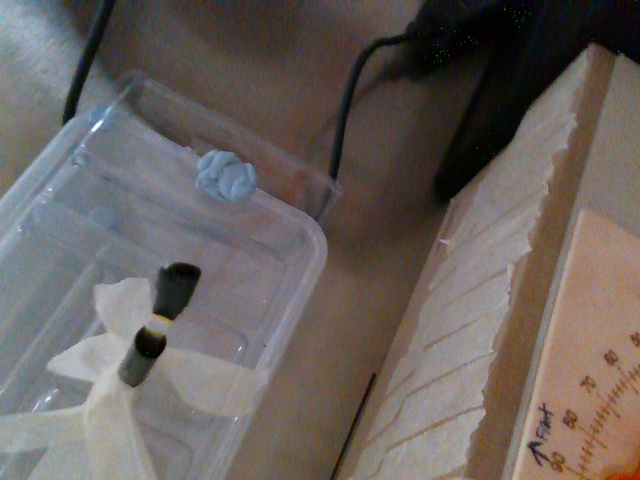test_strip: (143, 262, 198, 337)
